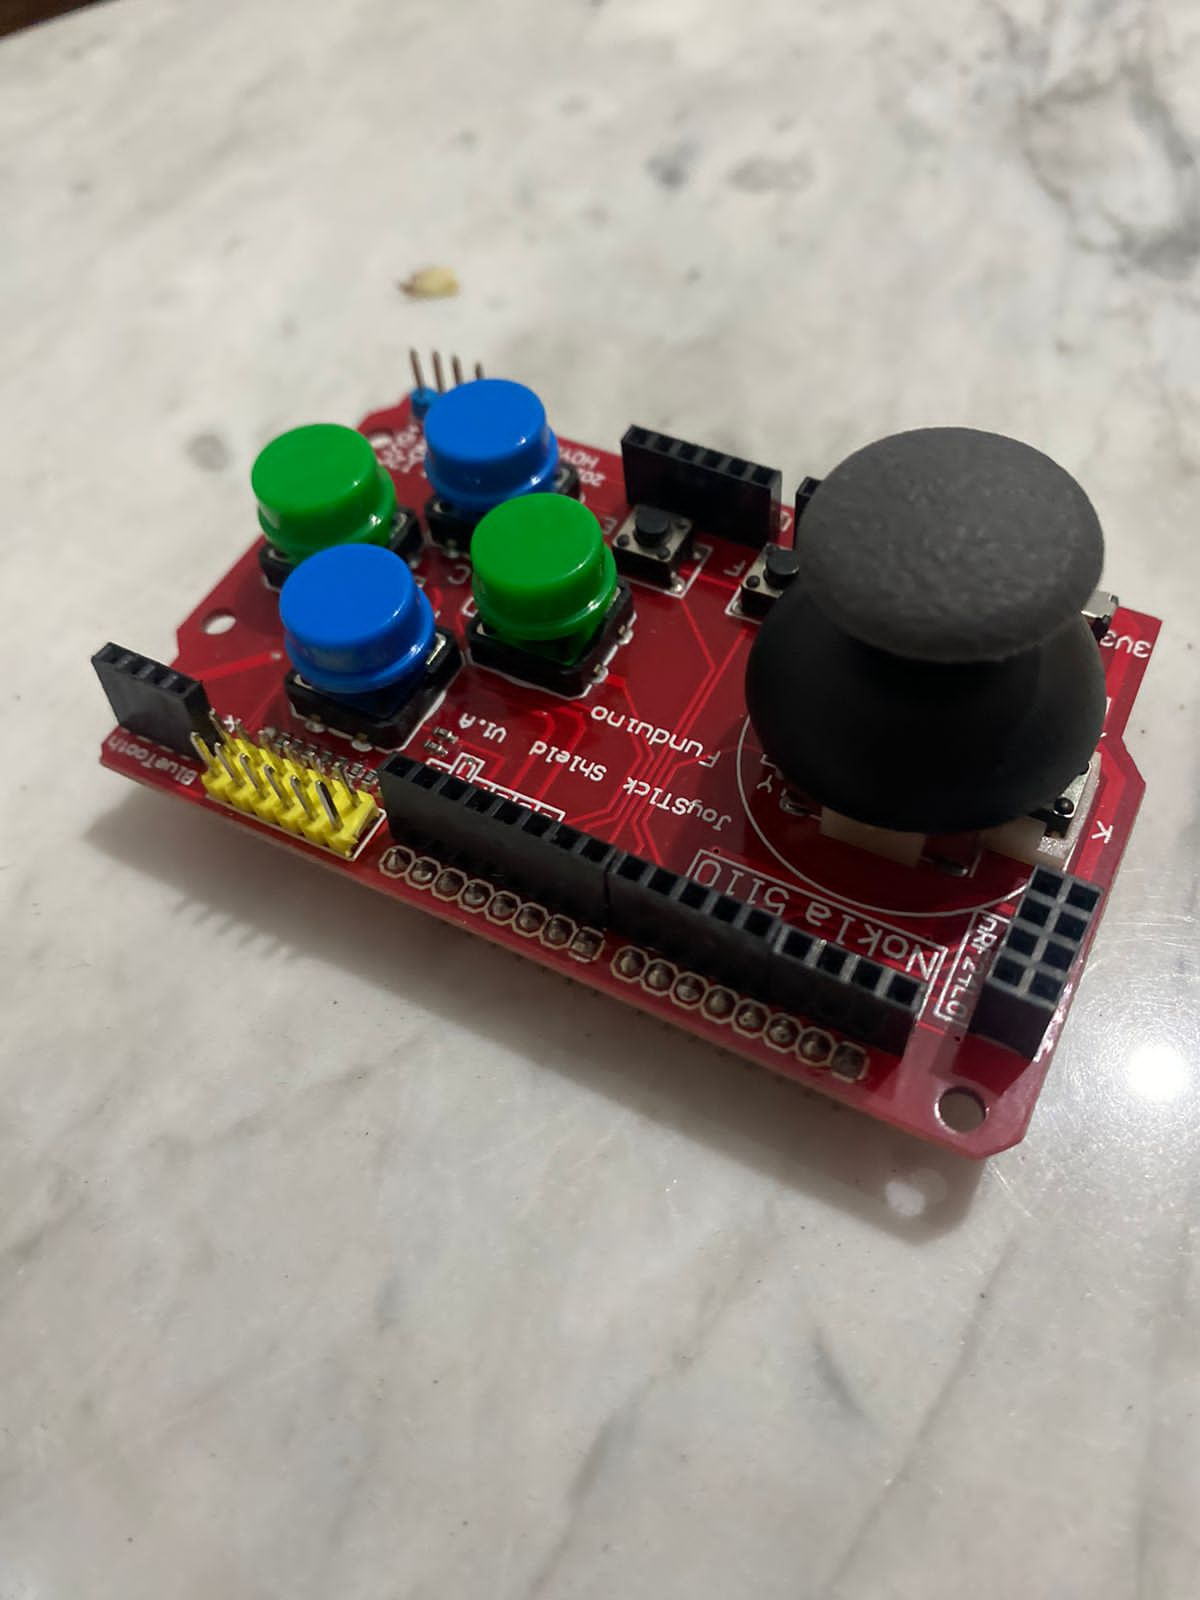Clavier-Joystick: (77, 341, 1161, 1163)
